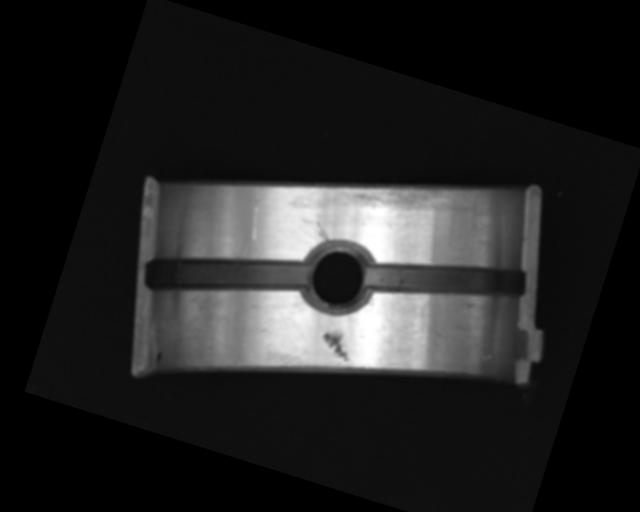blot: (153, 349, 164, 367)
bruise: (317, 325, 358, 362), (426, 326, 447, 342), (480, 351, 495, 364)
gap: (144, 218, 310, 330), (363, 228, 529, 328)
hole: (294, 232, 383, 319)
nick: (244, 183, 273, 241), (312, 221, 334, 241)
scratch: (333, 148, 485, 243)
